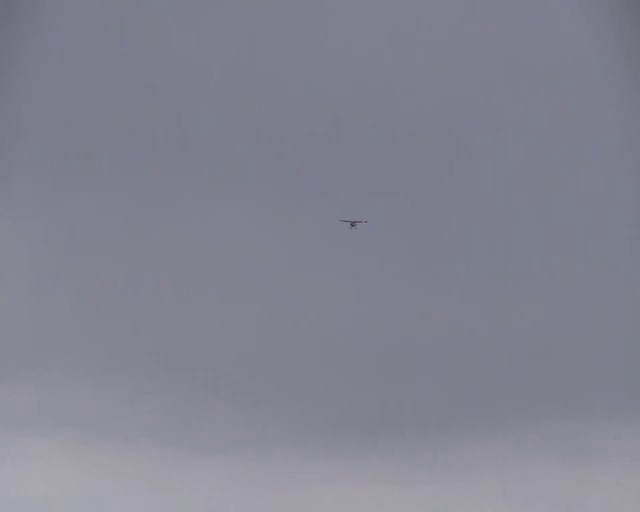AIRPLANE: (339, 219, 368, 229)
